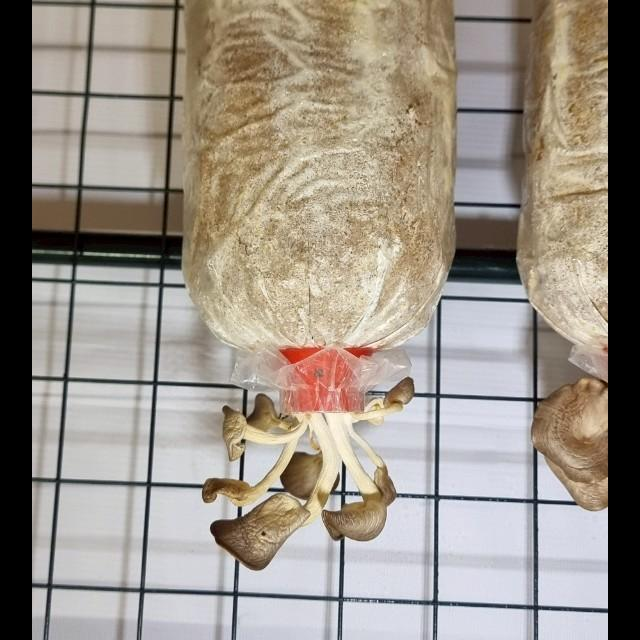abnormal: (222, 392, 350, 578), (180, 358, 326, 518), (306, 398, 414, 558), (306, 382, 456, 452)
